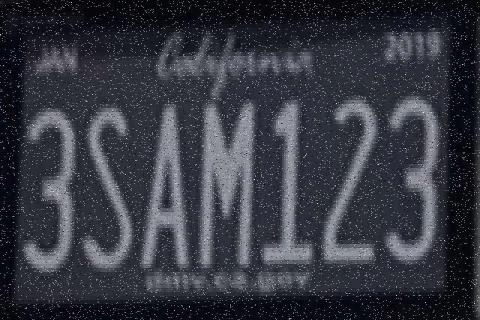LicensePlate: (10, 15, 452, 302)
